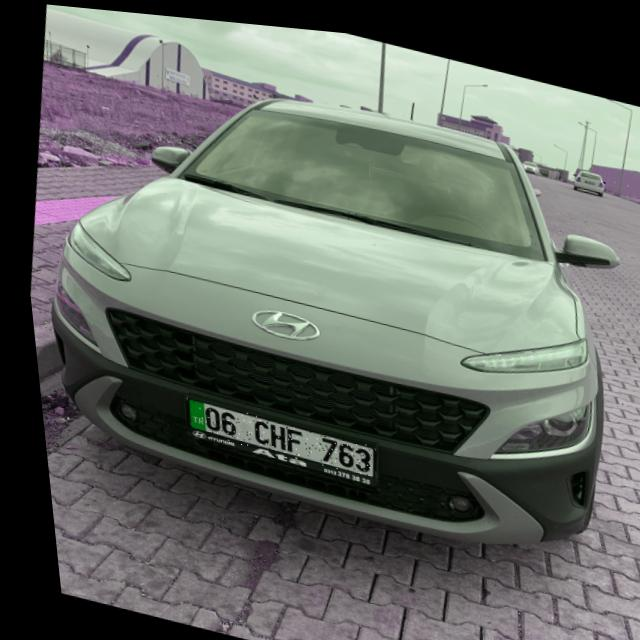license_plate: (174, 395, 371, 472)
